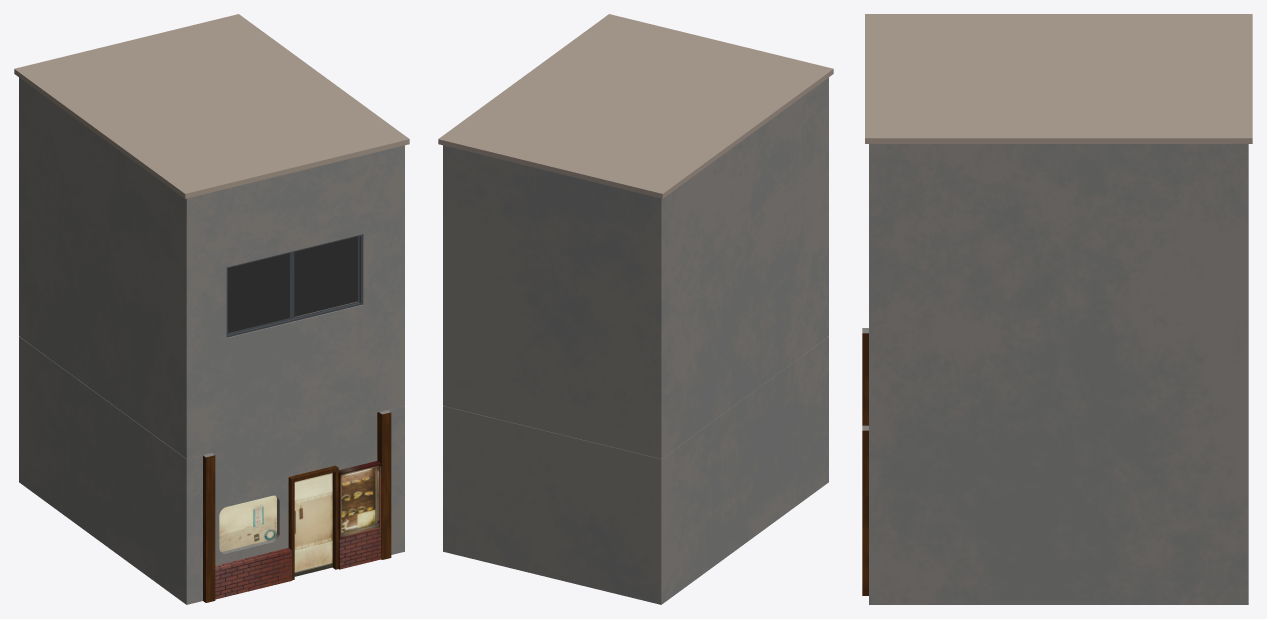
File: main_building.gltf
The picture shows the model from 3 angles, left to right: view 1: azimuth 30°, elevation 25°; view 2: azimuth 150°, elevation 25°; view 3: azimuth 270°, elevation 25°; orthographic projection. The views are drawn at different scales.
Visible parts, largest first — view 1: Main Builidng; view 2: Main Builidng; view 3: Main Builidng.
Part boxes in pixels (box(x1,y1,x2,y2)): Main Builidng: box(14, 14, 409, 604); Main Builidng: box(438, 14, 833, 604); Main Builidng: box(862, 14, 1252, 604).
Bounding box in the file's own units: 6.32 × 11.11 × 8.4.
Materials: 7 (7 with a texture image).
